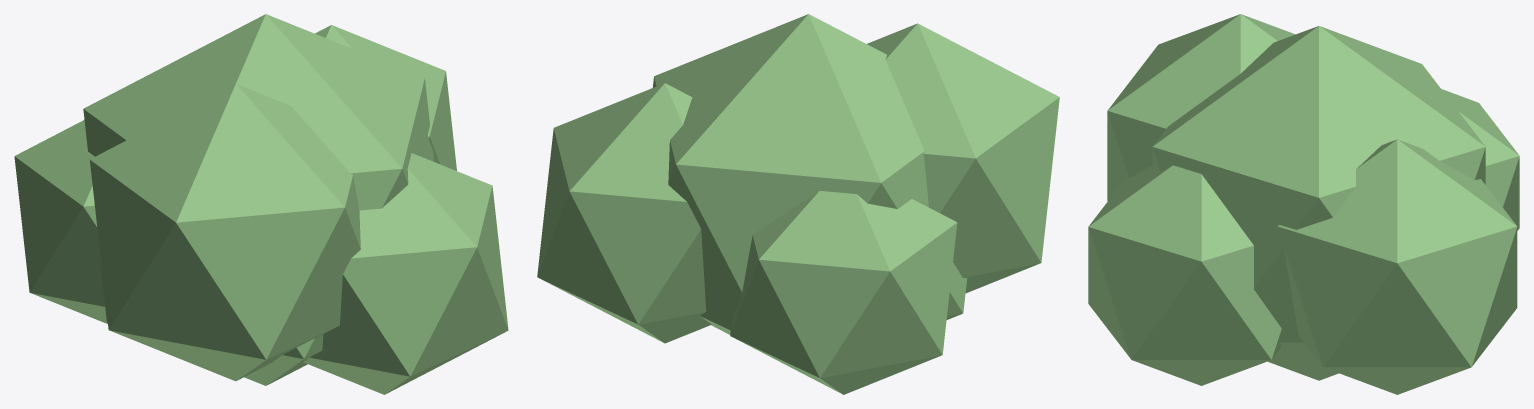
Rendered from 27_Bush_Thick.glb.
3 renders of one model, left to right at view 1: azimuth 30°, elevation 25°; view 2: azimuth 150°, elevation 25°; view 3: azimuth 270°, elevation 25°, orthographic. The views are drawn at different scales.
Parts seen in each view (by area): view 1: ThickBush_Part5, ThickBush_Part1, ThickBush_Part4, ThickBush_Part3, ThickBush_Part2; view 2: ThickBush_Part1, ThickBush_Part3, ThickBush_Part2, ThickBush_Part5; view 3: ThickBush_Part1, ThickBush_Part2, ThickBush_Part4, ThickBush_Part5, ThickBush_Part3.
Boxes of the visible parts, x1,y1,x2,y2 form: ThickBush_Part5: [89, 84, 360, 381]; ThickBush_Part1: [83, 14, 433, 385]; ThickBush_Part4: [303, 153, 508, 394]; ThickBush_Part3: [14, 120, 107, 323]; ThickBush_Part2: [315, 25, 456, 170]; ThickBush_Part1: [652, 14, 967, 334]; ThickBush_Part3: [730, 191, 957, 394]; ThickBush_Part2: [537, 83, 711, 343]; ThickBush_Part5: [867, 23, 1059, 293]; ThickBush_Part1: [1152, 26, 1485, 380]; ThickBush_Part2: [1277, 139, 1517, 394]; ThickBush_Part4: [1088, 165, 1281, 385]; ThickBush_Part5: [1107, 14, 1295, 201]; ThickBush_Part3: [1441, 89, 1519, 230].
Bounding box in the file's own units: 0.5899 × 0.5 × 0.5507.
